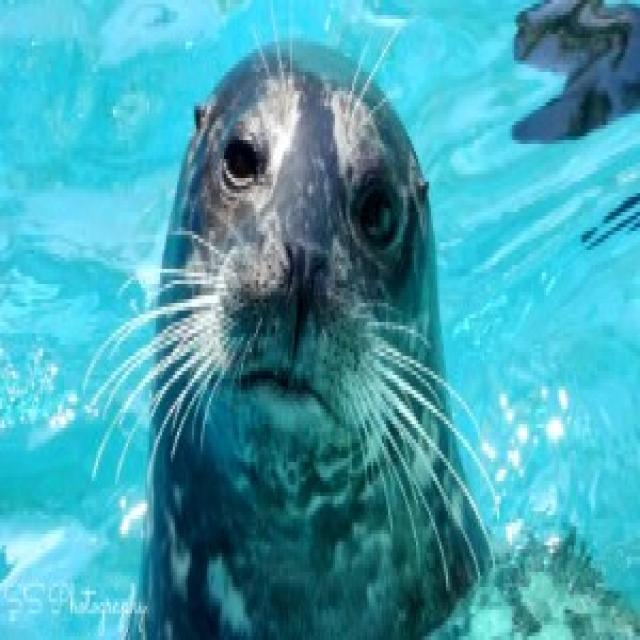Seal: (136, 29, 571, 640)
